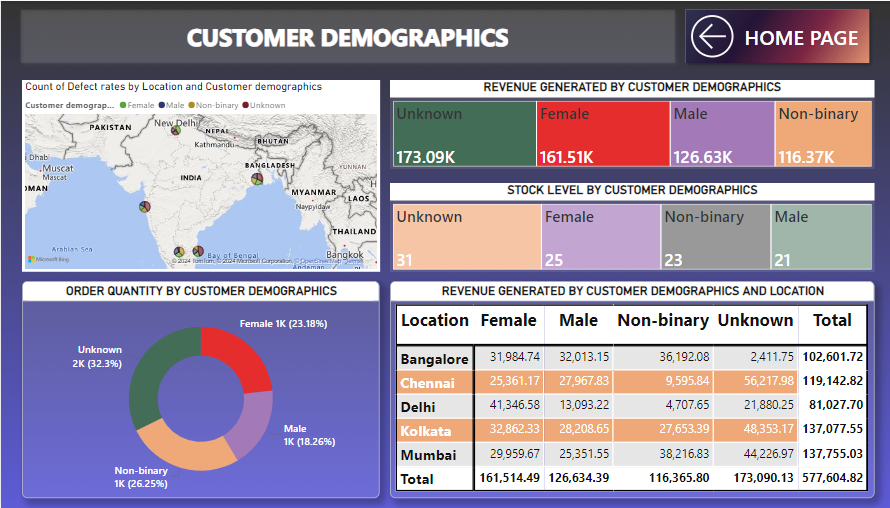

Layout of this report page (visuals, bound fields, positions):
{"tool":"powerbi","page":{"name":"Customer Demographics","canvas":[1400,800],"ordinal":3},"visuals":[{"type":"shape","box":[21.7,5,1048.3,101.7],"z":0},{"type":"donutChart","title":"ORDER QUANTITY BY CUSTOMER DEMOGRAPHICS","fields":{"Y":["Sum(supply_chain_data.Order quantities)"],"Series":["supply_chain_data.Customer demographics"]},"box":[33.3,441.7,563.3,341.7],"z":2000},{"type":"treemap","title":"REVENUE GENERATED BY CUSTOMER DEMOGRAPHICS","fields":{"Values":["Sum(supply_chain_data.Revenue generated)"],"Group":["supply_chain_data.Customer demographics"]},"box":[613.3,125,763.3,140],"z":3000},{"type":"pivotTable","title":"REVENUE GENERATED BY CUSTOMER DEMOGRAPHICS AND LOCATION","fields":{"Rows":["supply_chain_data.Location"],"Values":["Sum(supply_chain_data.Revenue generated)"],"Columns":["supply_chain_data.Customer demographics"]},"box":[613.3,441.7,763.3,341.7],"z":4000},{"type":"treemap","title":"STOCK LEVEL BY CUSTOMER DEMOGRAPHICS","fields":{"Values":["CountNonNull(supply_chain_data.Stock levels)"],"Group":["supply_chain_data.Customer demographics"]},"box":[613.3,286.7,763.3,140],"z":5000},{"type":"actionButton","box":[1070,5,306.7,101.7],"z":6000},{"type":"map","fields":{"Size":["CountNonNull(supply_chain_data.Defect rates)"],"Category":["supply_chain_data.Location"],"Series":["supply_chain_data.Customer demographics"]},"box":[33.1,124.4,563.8,302.4],"z":9001}]}

Visuals, with their boxes in screenshot pixels (x1, y1, x2, y2), scaled from the page's 1400x800 canvas onto the 890x508 screenshot:
shape: (14, 3, 680, 68)
"ORDER QUANTITY BY CUSTOMER DEMOGRAPHICS" donutChart: (21, 280, 379, 497)
"REVENUE GENERATED BY CUSTOMER DEMOGRAPHICS" treemap: (390, 79, 875, 168)
"REVENUE GENERATED BY CUSTOMER DEMOGRAPHICS AND LOCATION" pivotTable: (390, 280, 875, 497)
"STOCK LEVEL BY CUSTOMER DEMOGRAPHICS" treemap: (390, 182, 875, 271)
actionButton: (680, 3, 875, 68)
map - CountNonNull(supply_chain_data.Defect rates) x supply_chain_data.Location: (21, 79, 379, 271)
